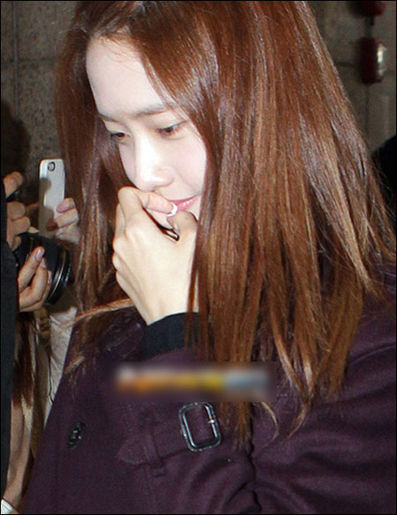face: (96, 46, 212, 246)
